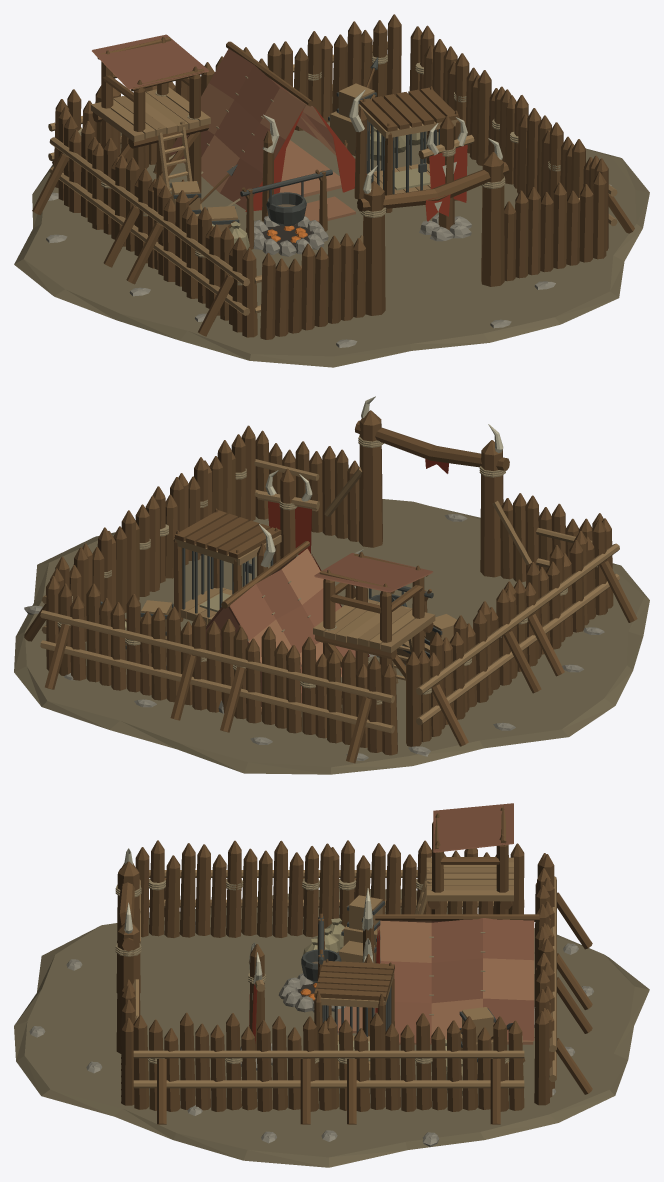
Rendered from grimroot-camp.glb.
The picture shows the model from 3 angles, top to bottom: view 1: azimuth 30°, elevation 25°; view 2: azimuth 150°, elevation 25°; view 3: azimuth 270°, elevation 25°; orthographic projection.
Parts seen in each view (by area): view 1: grimroot-camp; view 2: grimroot-camp; view 3: grimroot-camp.
Boxes of the visible parts, box(x1,y1,x2,y2) form: grimroot-camp: box(14, 14, 649, 367); grimroot-camp: box(14, 396, 649, 774); grimroot-camp: box(14, 803, 649, 1167).
Bounding box in the file's own units: 12.86 × 3.24 × 12.38.
